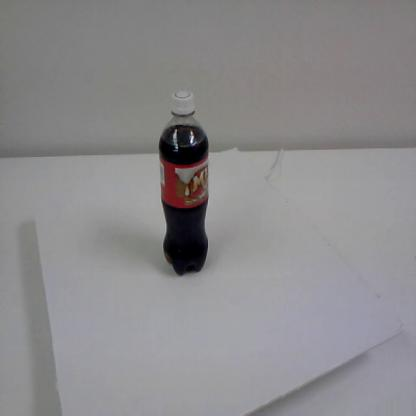bottle: (156, 90, 213, 278)
